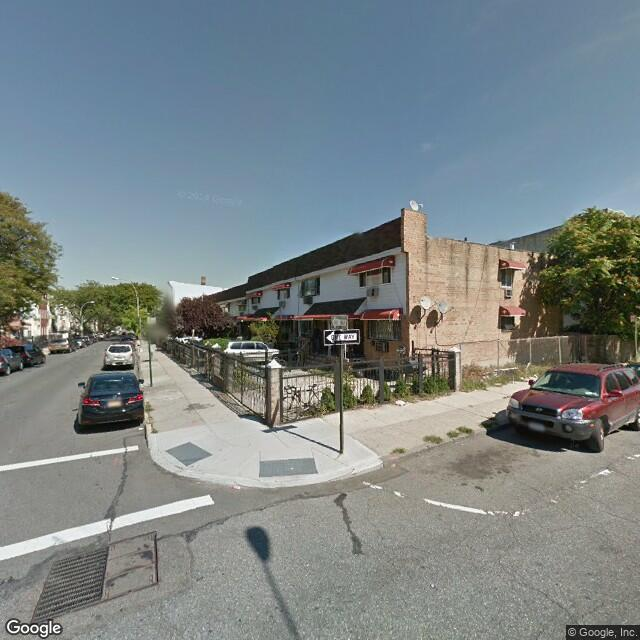litter: (393, 397, 408, 406), (231, 483, 243, 491), (137, 424, 147, 429), (389, 461, 396, 465), (288, 466, 293, 469)
